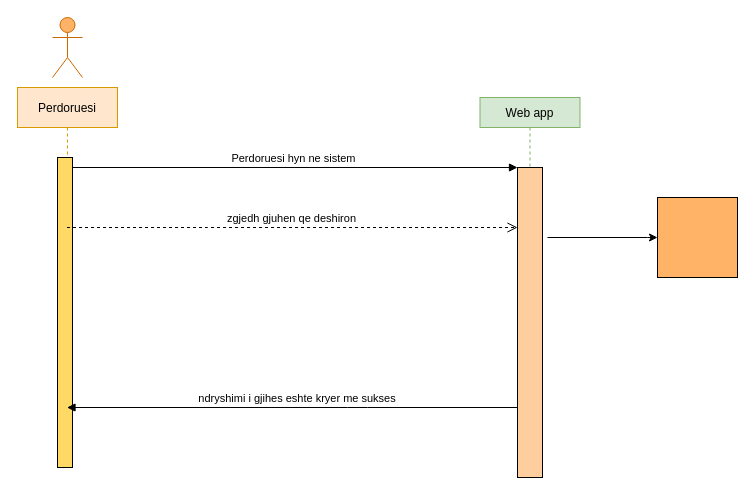
The diagram is 755 pixels wide and 495 high, and some of its shapes have lost their labels. The shapes that lost their labels are listed below. From the top down, each one's centre as x and y in pixels, then its label:
At pixel 67 47: "Actor".
At pixel 697 237: "lista e gjuheve".
